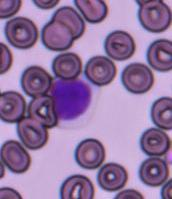L: (49, 78, 100, 127)
